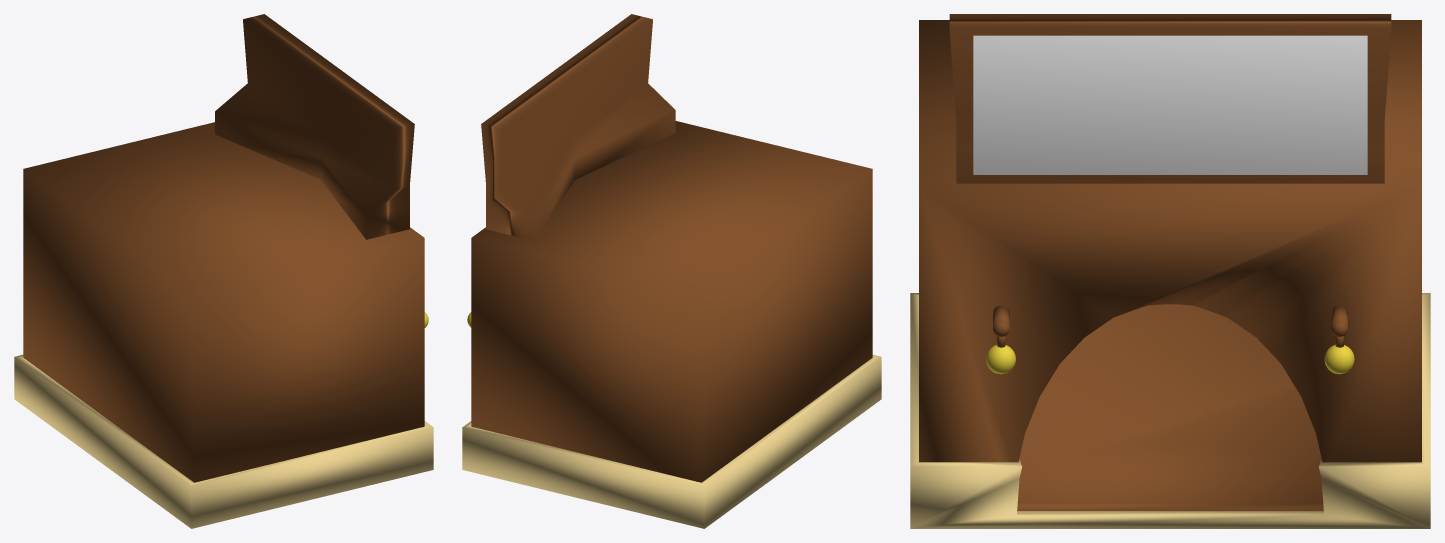
File: WATERHOUSSSFIXED.glb
The picture shows the model from 3 angles, left to right: view 1: azimuth 30°, elevation 25°; view 2: azimuth 150°, elevation 25°; view 3: azimuth 270°, elevation 25°; orthographic projection. The views are drawn at different scales.
Parts seen in each view (by area): view 1: waterhousexterior, Cube.001; view 2: waterhousexterior, Cube.001; view 3: waterhousexterior, Cube.002, Cube.001, Sphere.001, Sphere.
Boxes of the visible parts, left/top/right/bottom form: waterhousexterior: left=14, top=122, right=433, bottom=528; Cube.001: left=215, top=14, right=414, bottom=239; waterhousexterior: left=462, top=121, right=881, bottom=528; Cube.001: left=481, top=14, right=675, bottom=240; waterhousexterior: left=910, top=20, right=1430, bottom=528; Cube.002: left=973, top=35, right=1367, bottom=174; Cube.001: left=949, top=14, right=1391, bottom=183; Sphere.001: left=1324, top=305, right=1354, bottom=374; Sphere: left=986, top=305, right=1015, bottom=374.
Bounding box in the file's own units: 30.13 × 36.41 × 34.65.
